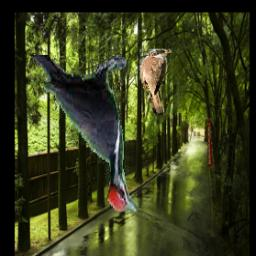Cuckoo: (140, 49, 173, 115)
Woodpecker: (31, 55, 138, 212)
